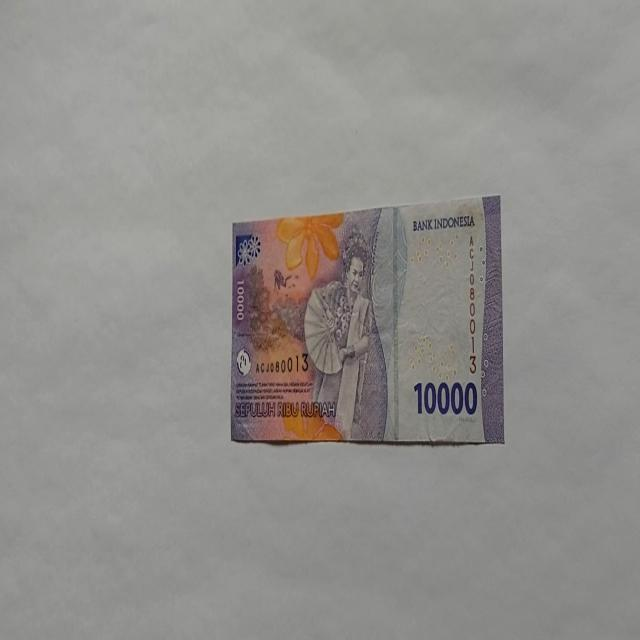sepuluh ribu rupiah: (230, 192, 504, 446)
